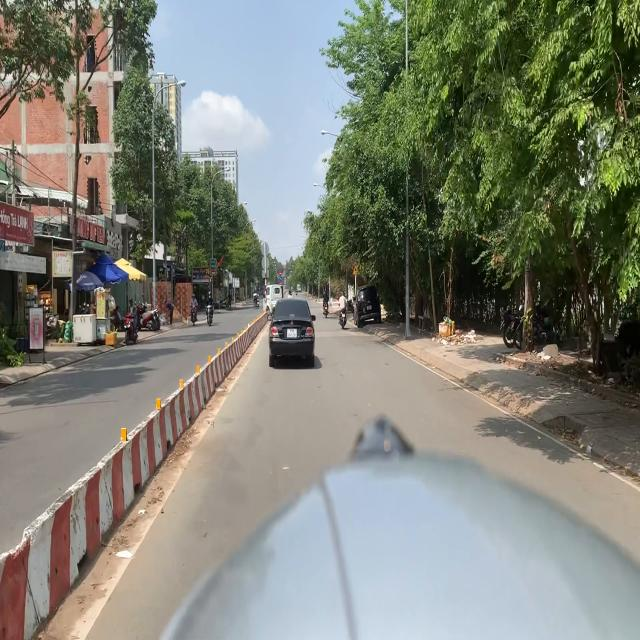Cam nguoc chieu: (279, 270, 282, 276)
Hieu lenh: (279, 276, 282, 281)
